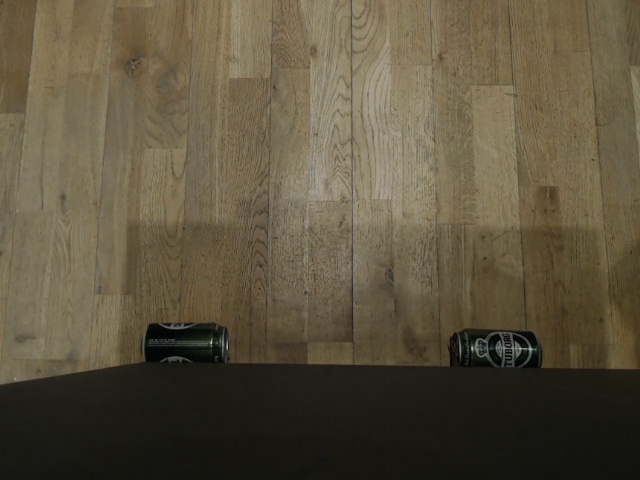beer: (446, 327, 544, 369), (139, 322, 228, 364)
